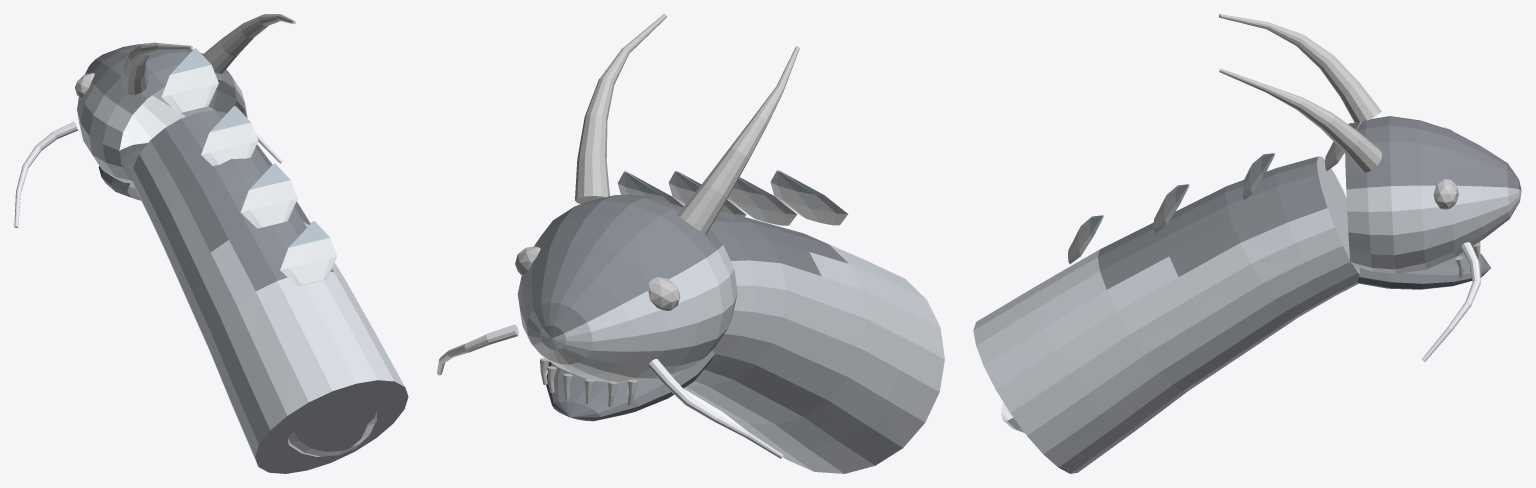
The model's file is CreatureSerpent.obj.
3 views of the same model, side by side, from view 1: azimuth 30°, elevation 25°; view 2: azimuth 150°, elevation 25°; view 3: azimuth 270°, elevation 25° (orthographic). The views are drawn at different scales.
Bounding box in the file's own units: 3.14 × 4.35 × 5.12.
